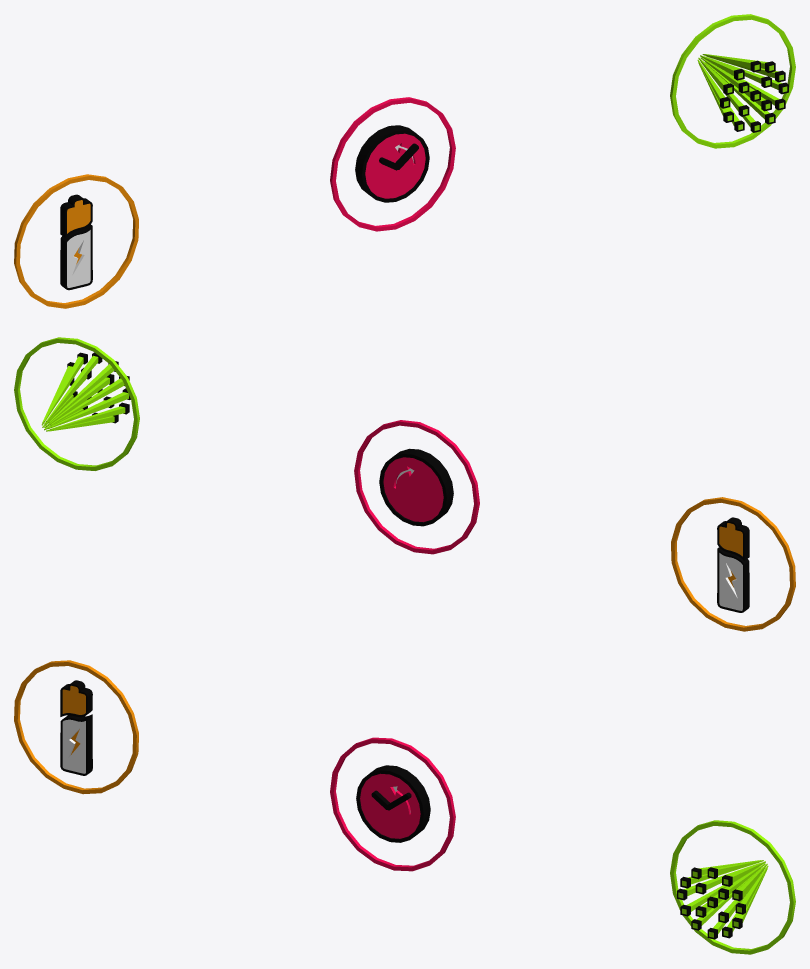
File: Items(TAMPOCOFUNCA).DAE
3 views of the same model, one above another, from view 1: azimuth 30°, elevation 25°; view 2: azimuth 150°, elevation 25°; view 3: azimuth 330°, elevation 25° (orthographic).
Visible parts, largest first — view 1: items; view 2: items; view 3: items.
Boxes of the visible parts, x1,y1,x2,y2 form: items: (14, 14, 795, 308); items: (14, 337, 795, 631); items: (14, 660, 795, 954).
Bounding box in the file's own units: 103 × 12.19 × 16.35.
